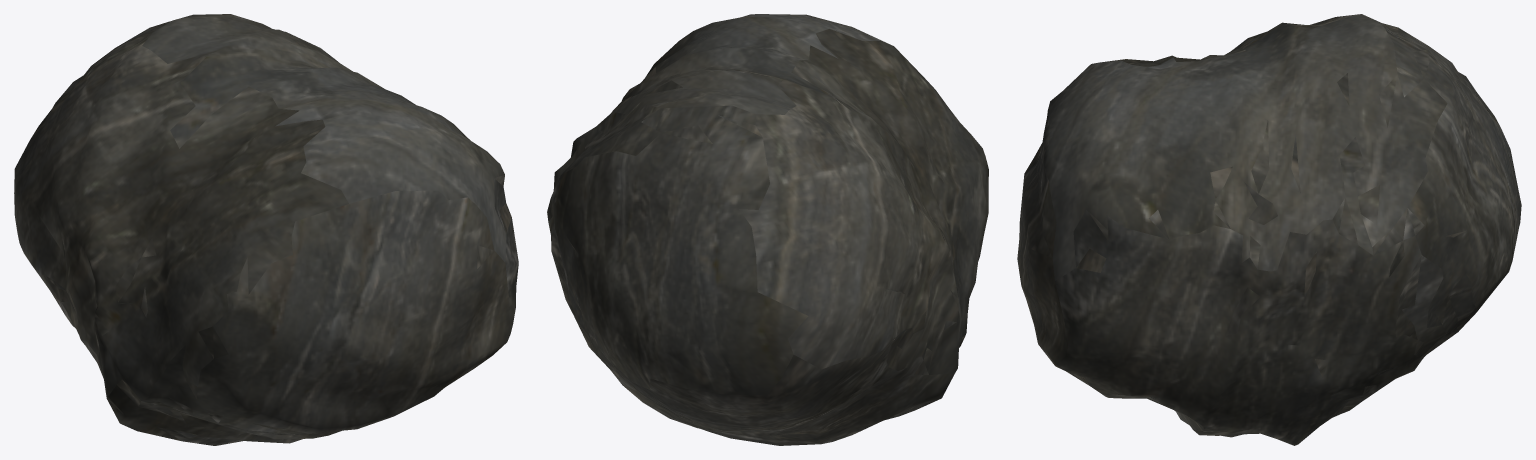
The model's file is roca2.glb.
3 renders of one model, left to right at view 1: azimuth 30°, elevation 25°; view 2: azimuth 150°, elevation 25°; view 3: azimuth 270°, elevation 25°, orthographic.
Parts seen in each view (by area): view 1: 02_Landscape.001; view 2: 02_Landscape.001; view 3: 02_Landscape.001.
Boxes of the visible parts, x1,y1,x2,y2 form: 02_Landscape.001: [14, 14, 518, 445]; 02_Landscape.001: [547, 14, 988, 445]; 02_Landscape.001: [1017, 14, 1521, 445].
Bounding box in the file's own units: 0.8517 × 0.824 × 1.
Materials: 1 (1 with a texture image).
